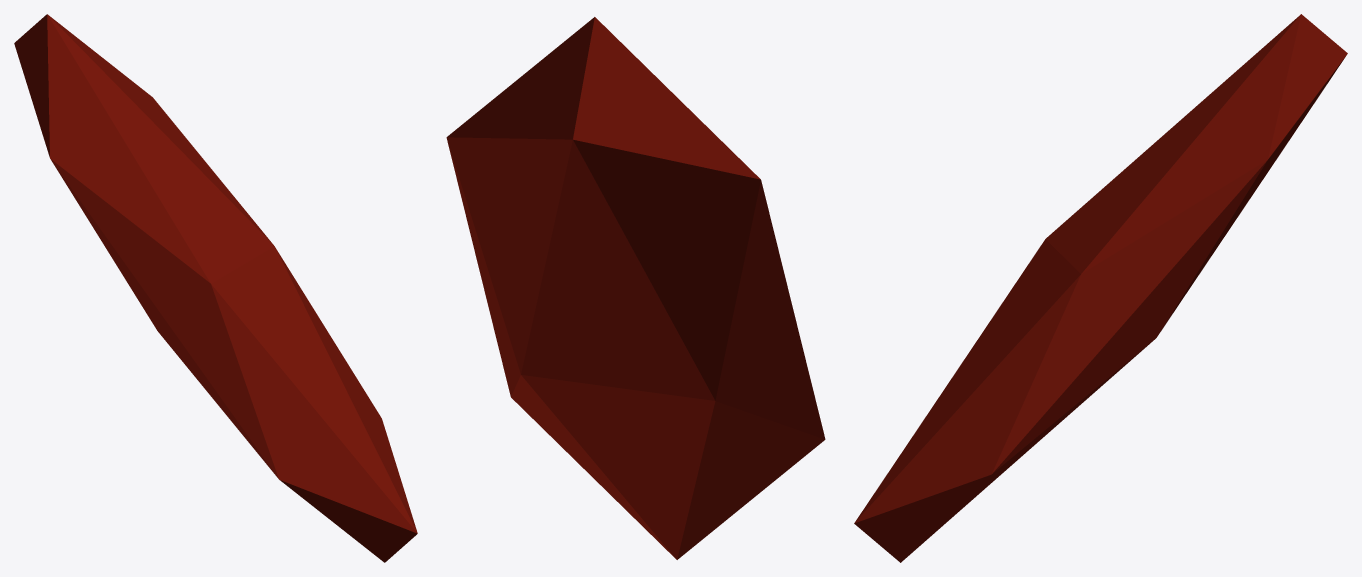
Rendered from Platonic_12.gltf.
The picture shows the model from 3 angles, left to right: view 1: azimuth 30°, elevation 25°; view 2: azimuth 150°, elevation 25°; view 3: azimuth 270°, elevation 25°; orthographic projection. The views are drawn at different scales.
Parts seen in each view (by area): view 1: Platonic_12; view 2: Platonic_12; view 3: Platonic_12.
Part boxes in pixels (box(x1,y1,x2,y2)): Platonic_12: box(14, 14, 417, 562); Platonic_12: box(446, 17, 825, 559); Platonic_12: box(854, 14, 1347, 562).
Bounding box in the file's own units: 17.69 × 33.03 × 31.29.
